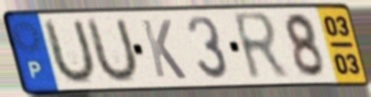3: (186, 14, 231, 82)
8: (285, 11, 327, 80)
K: (138, 17, 190, 81)
R: (229, 9, 293, 85)
U: (85, 15, 141, 87), (42, 17, 98, 88)
